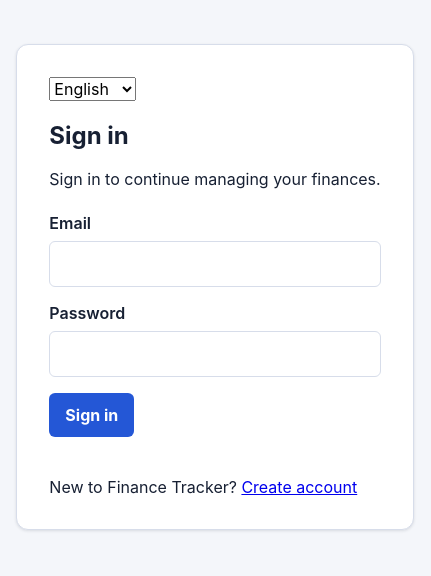
Scenario: shows client validation errors before submitting login credentials
The image size is (431, 576).
Click the button "Sign in" at [92, 415], box x1=49 y1=393 x2=134 y2=437
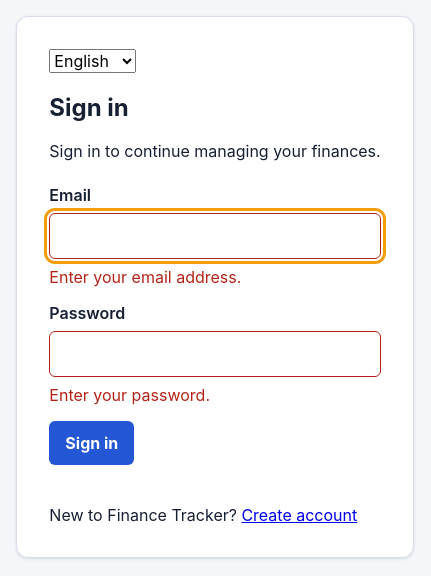
Now the text "Enter your email address." is shown, box x1=49 y1=267 x2=241 y2=287
Now the text "Enter your password." is shown, box x1=49 y1=385 x2=210 y2=405
